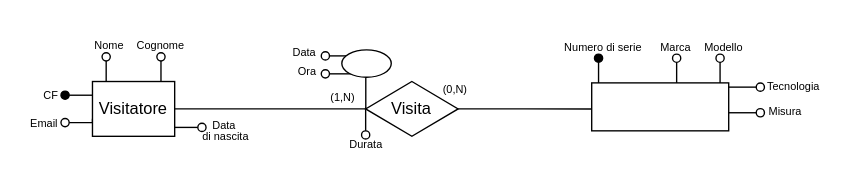
Image size: 849x178. Some labels were removed from this diagram. Here are the shapes that lost their labels. From the top down, the centre of each, then its label:
the point at 365,62: DataVisita
the point at 659,106: Oggetti Informatici
